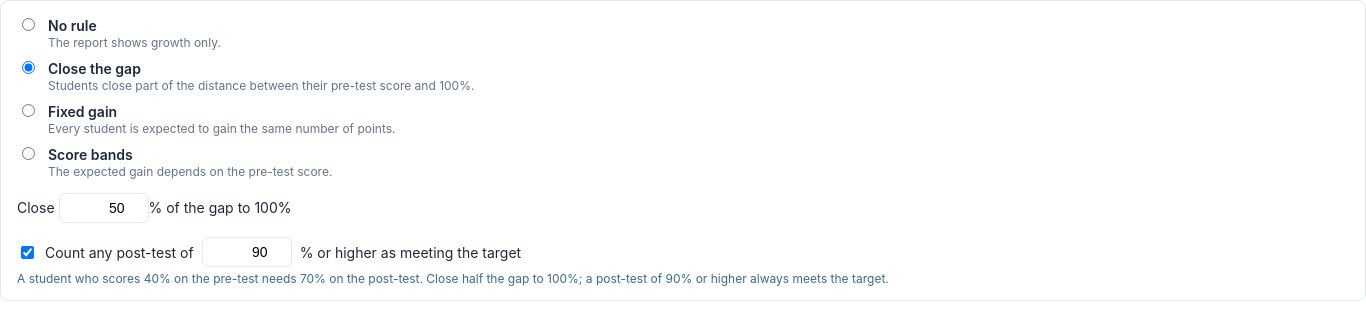
Test case: an out-of-range value shows the error instead of the preview
Replace the text in the number field named "Share of the gap" with "150" at (104, 208), box [58,193,148,223]
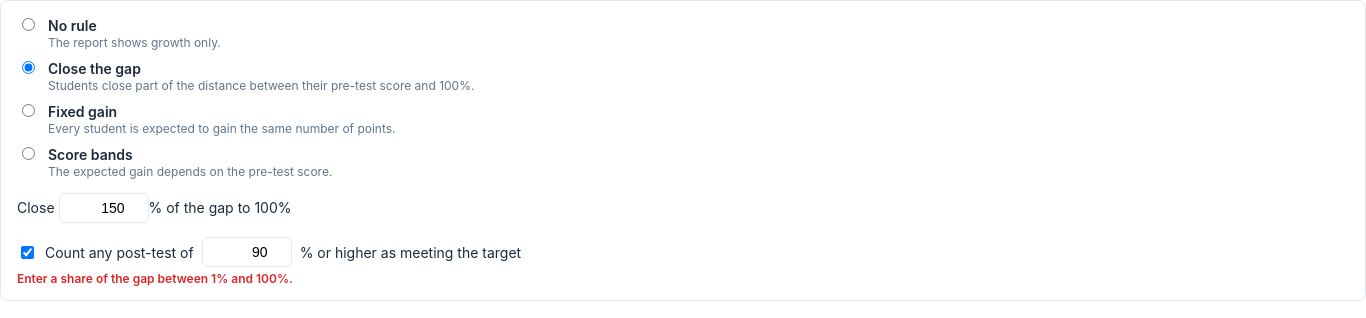
Expected: the text "Enter a share of the gap between 1% and 100%." is shown, [17,271,293,286]
